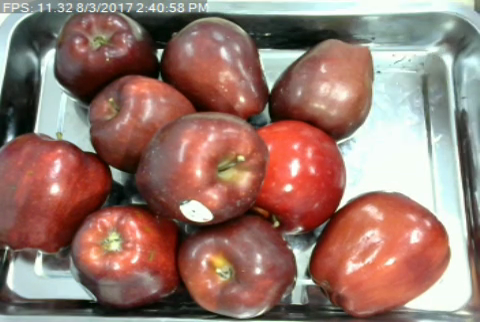Apple: (306, 187, 454, 322), (133, 110, 268, 227), (0, 129, 117, 258), (176, 206, 300, 321), (67, 200, 184, 312), (158, 13, 270, 122), (249, 117, 349, 237), (265, 36, 376, 143), (84, 72, 196, 175), (52, 8, 159, 109)
